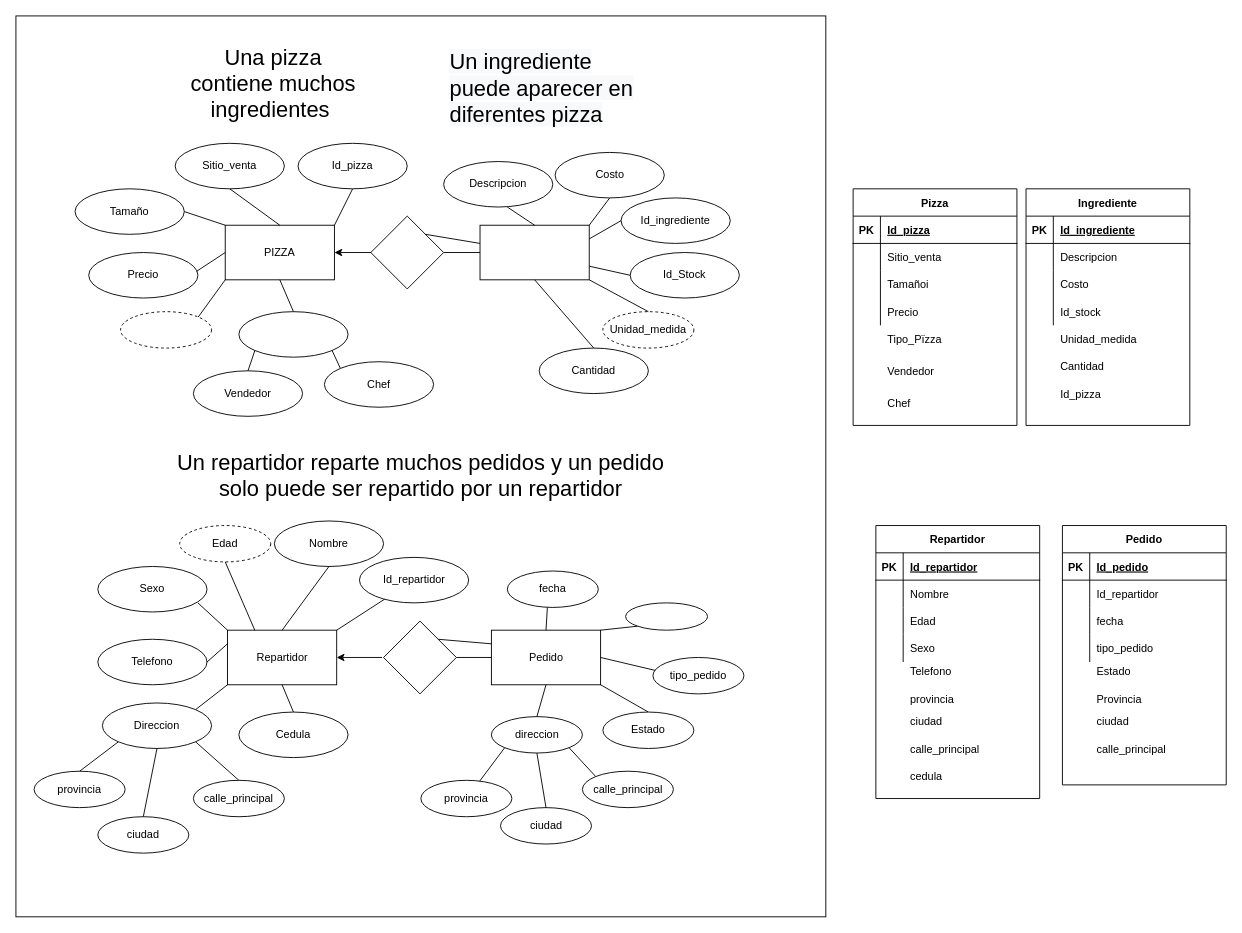
Image size: 1242x933. Some labels were removed from this diagram. Here are the shapes that lost their labels. From the top down, the centre of each, then its label:
point (407, 252): contiene
point (534, 252): INGREDIENTES
point (166, 329): Tipo_Pizza
point (293, 334): Produccion
point (666, 616): id-pedido
point (419, 657): Distribuir
